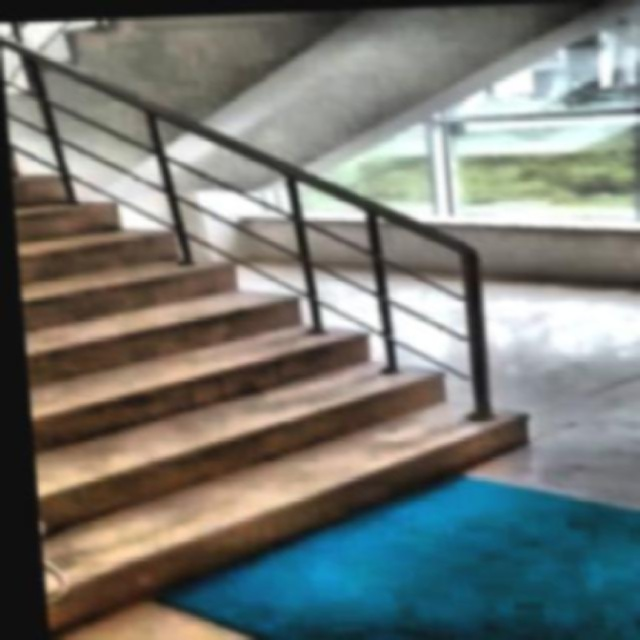stair: (8, 94, 555, 638)
